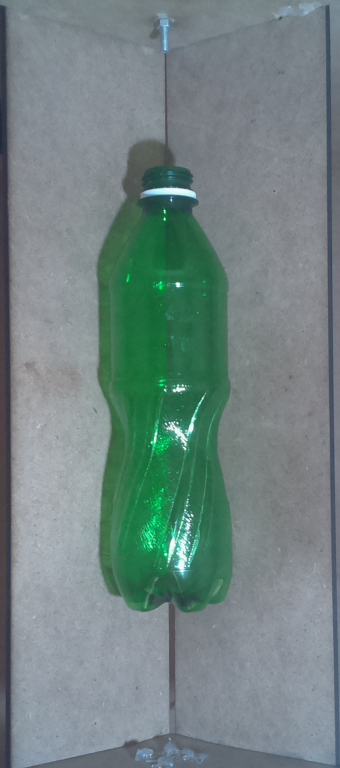Bouteille_0.5L: (94, 156, 243, 622)
